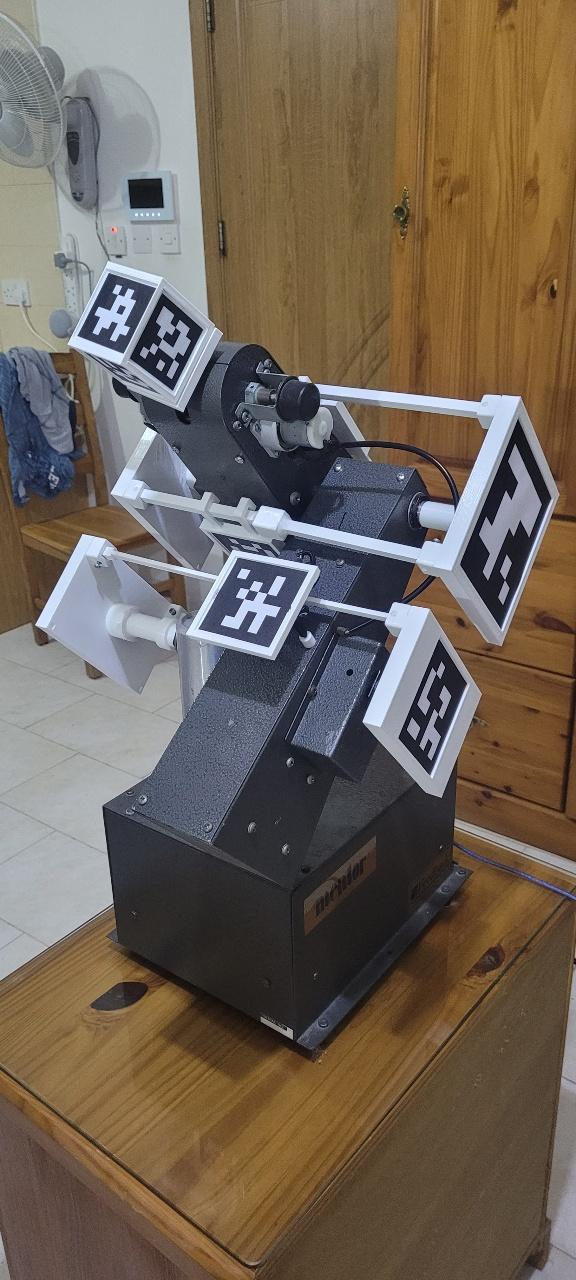Robot: (32, 259, 563, 885)
